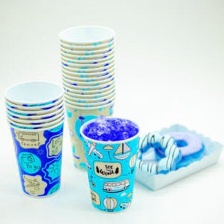paper_cup: (53, 20, 121, 175), (0, 76, 70, 202), (75, 112, 145, 216)
